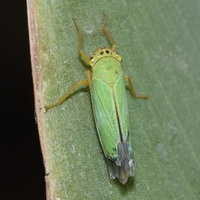insect: (44, 14, 147, 183)
